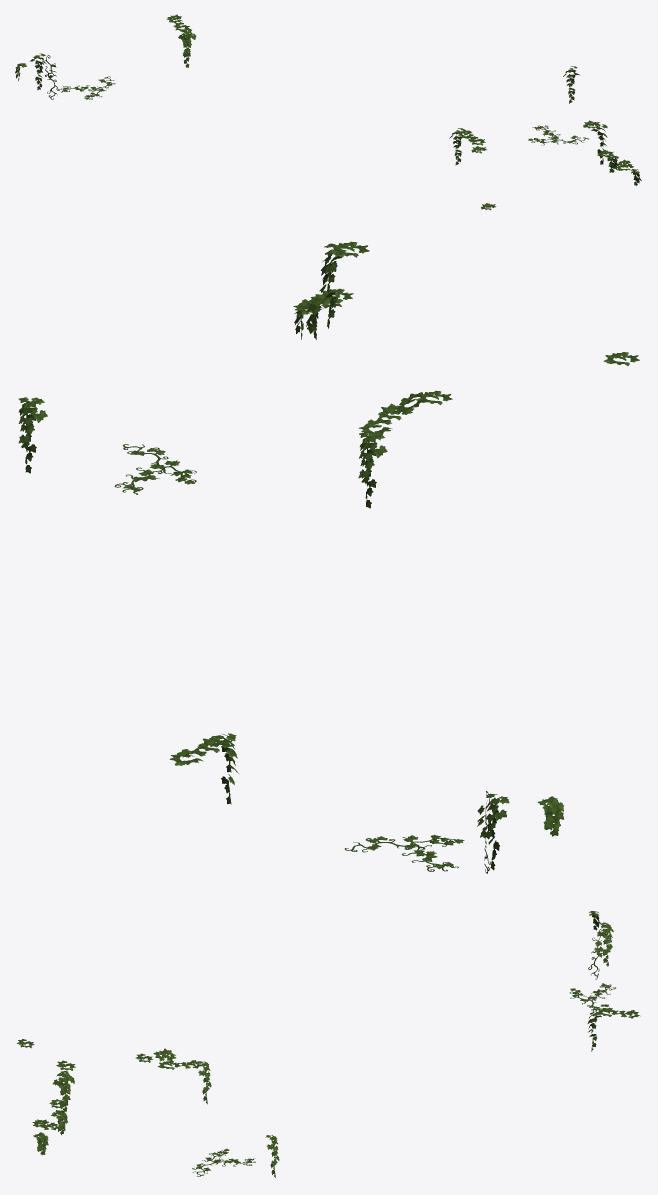
File: Ivy.fbx
The picture shows the model from 3 angles, top to bottom: view 1: azimuth 30°, elevation 25°; view 2: azimuth 150°, elevation 25°; view 3: azimuth 270°, elevation 25°; orthographic projection. The views are drawn at different scales.
Visible parts, largest first — view 1: Ivy4_1, Ivy4, Ivy1_3; view 2: Ivy4, Ivy4_1, Ivy1_2, Ivy1_1; view 3: Ivy4_1, Ivy1, Ivy4.
Boxes of the visible parts, x1=… form: Ivy4_1: x1=528, y1=125, x2=588, y2=145; Ivy4: x1=60, y1=76, x2=115, y2=99; Ivy1_3: x1=178, y1=28, x2=196, y2=67; Ivy4: x1=344, y1=835, x2=464, y2=871; Ivy4_1: x1=114, y1=444, x2=196, y2=494; Ivy1_2: x1=18, y1=397, x2=47, y2=473; Ivy1_1: x1=358, y1=432, x2=387, y2=508; Ivy4_1: x1=192, y1=1148, x2=255, y2=1176; Ivy1: x1=52, y1=1071, x2=74, y2=1119; Ivy4: x1=569, y1=983, x2=615, y2=1013.
Bounding box in the file's own units: 3038 × 527 × 3458.
1 material, 1 textured.
